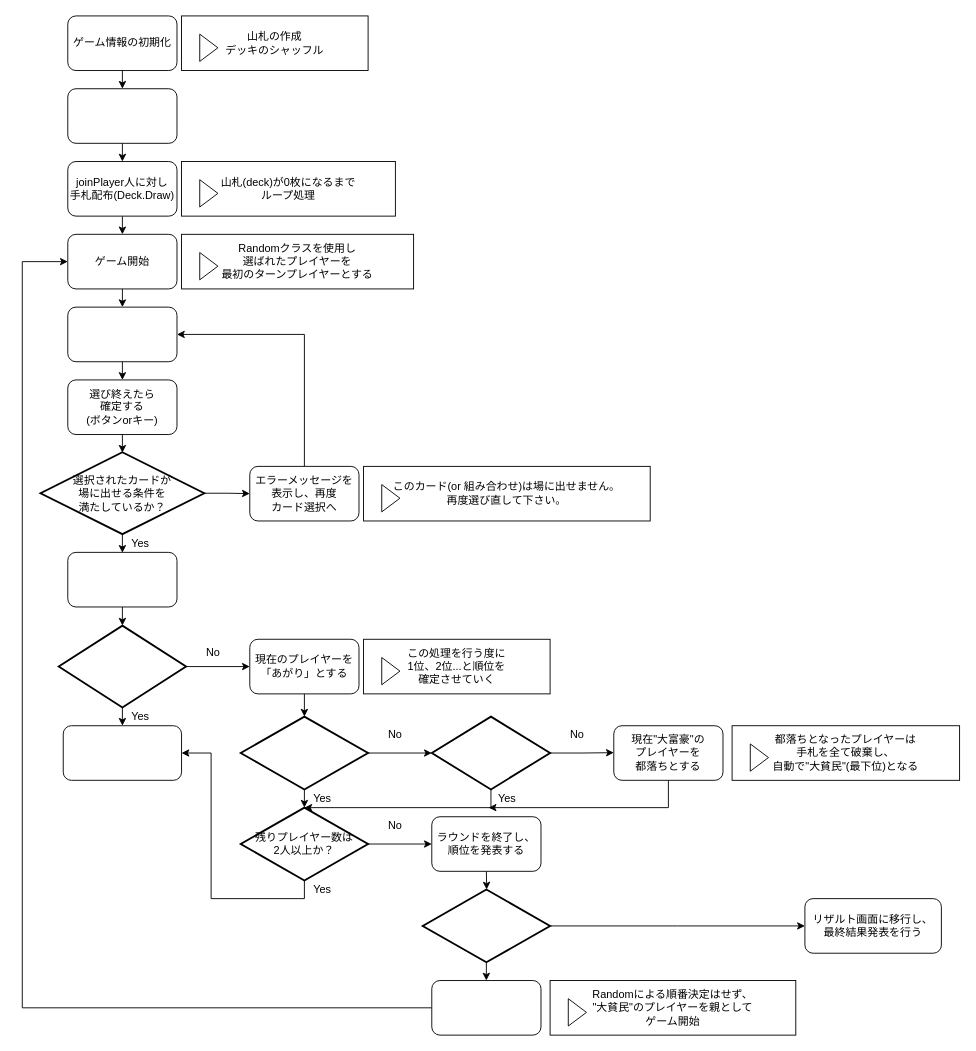
The diagram is 976 pixels wide and 1051 high, and some of its shapes have lost their labels. The centre of each missing label's shape, as x and y in pixels:
まだ次のラウンドが 残っているか？: point (486, 925)
ターンを次の プレイヤーに渡す: point (122, 752)
参加人数(joinPlayer) のチェック: point (122, 115)
山札をリセットし、 再度ゲーム開始: point (486, 1007)
手札から場に出す カードを選択する: point (122, 334)
手札は残っているか？: point (122, 666)
現在のラウンドは 1ラウンド目か？: point (304, 752)
現在プレイヤーは "大富豪"か？: point (490, 752)
選択されたカードを 場に出す: point (122, 579)
